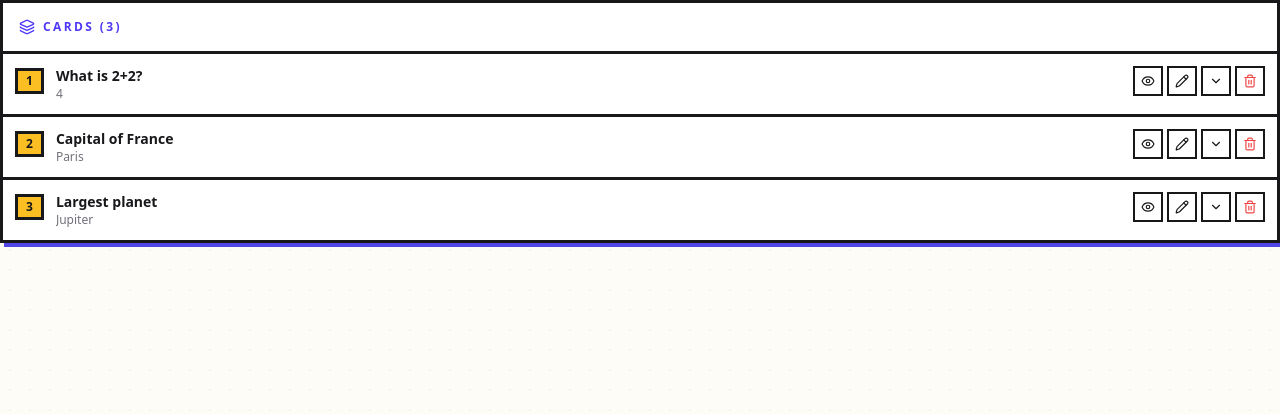
Test case: CardsList › expands card details when expand button is clicked
Note: Click chevron to expand
Click the button named "Expand card 1" at (1216, 81), box [1201,66,1231,96]
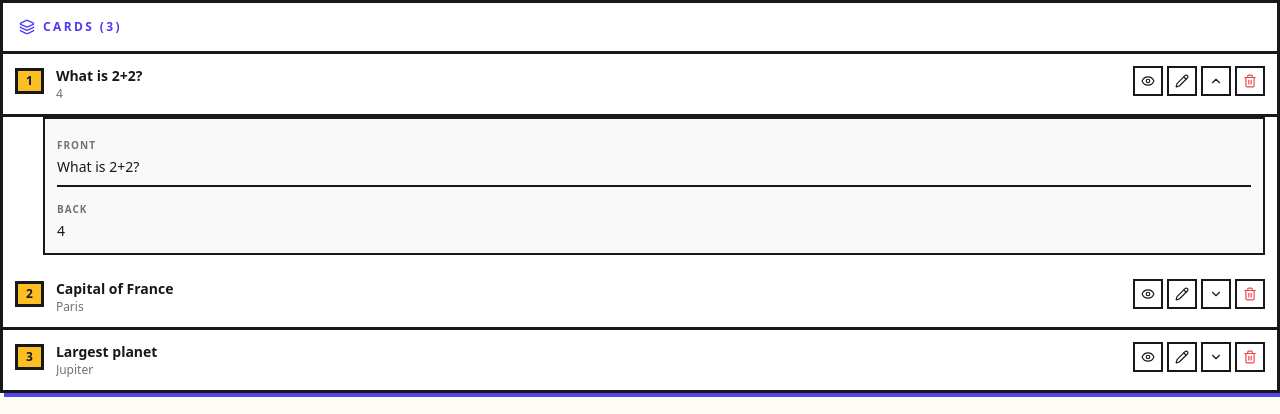
Now the text "Front" is shown, box [57,138,96,152]
Now the text "Back" is shown, box [57,202,87,216]
